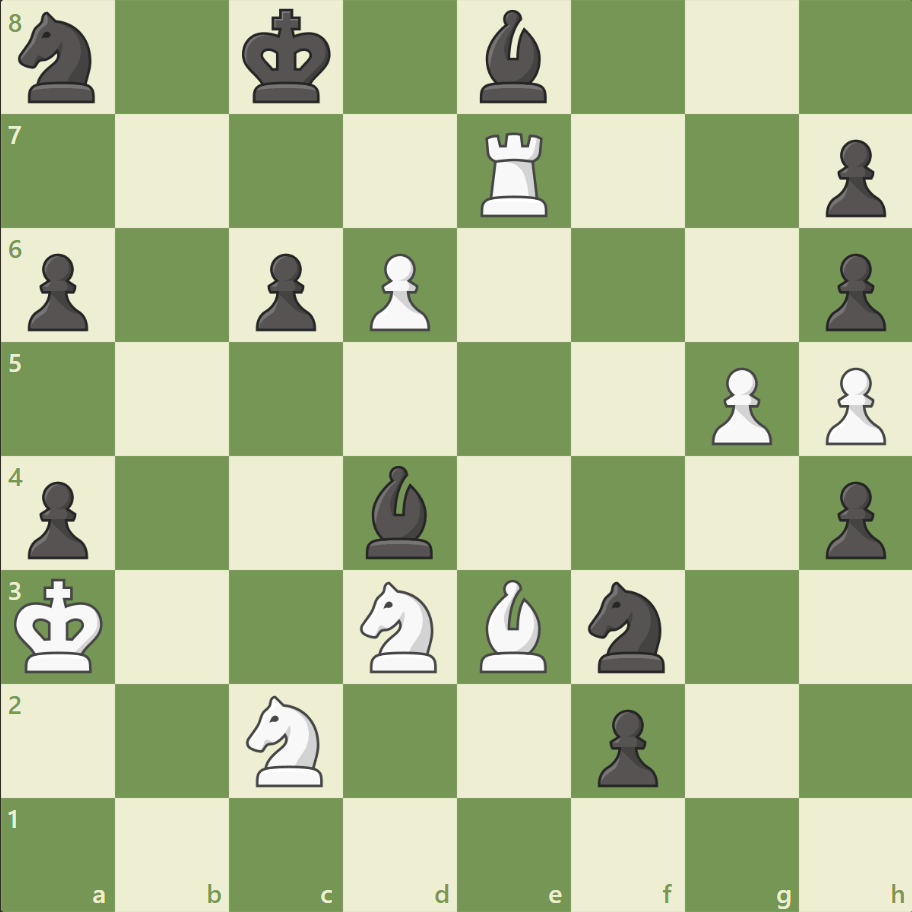B: (471, 574, 555, 676)
K: (11, 571, 111, 679)
N: (351, 575, 449, 677), (238, 688, 335, 791)
P: (701, 359, 776, 450), (361, 246, 435, 337), (815, 359, 889, 450)
R: (473, 125, 556, 222)
b: (471, 6, 555, 109), (358, 460, 442, 563)
k: (238, 4, 338, 112)
n: (11, 7, 108, 110), (579, 575, 676, 677)
p: (20, 246, 95, 337), (247, 246, 322, 337), (20, 473, 95, 564), (815, 132, 889, 223), (815, 246, 889, 337), (815, 473, 889, 564), (588, 700, 662, 791)
